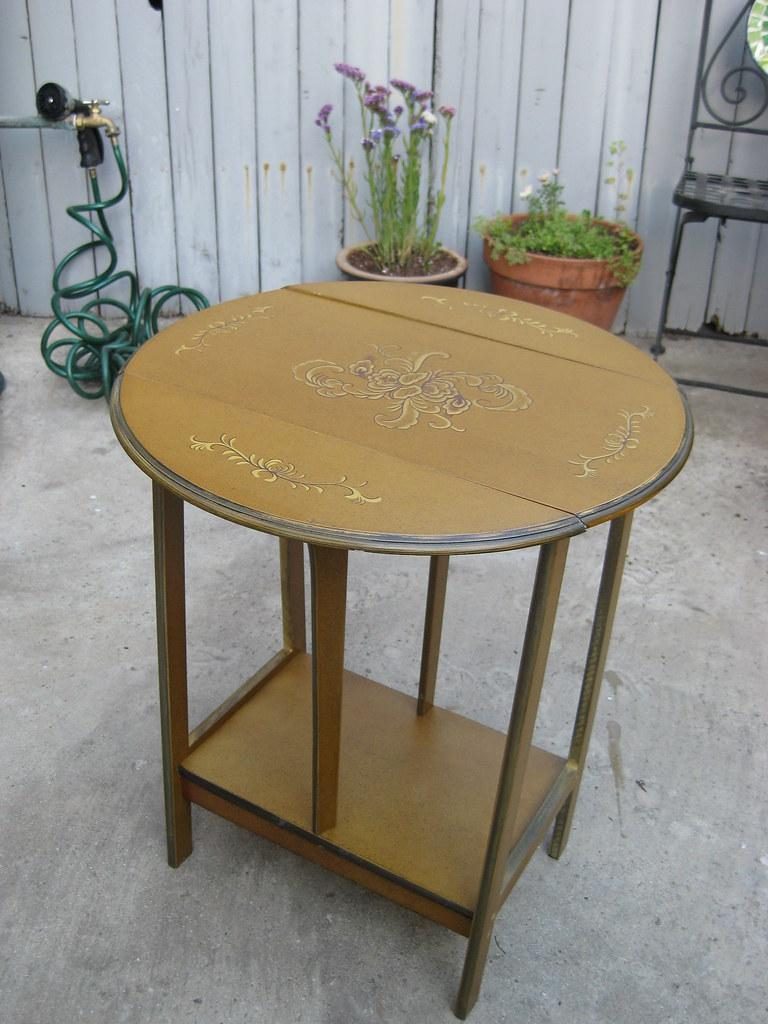table: (108, 278, 696, 1018)
